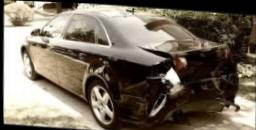Bumper: (131, 75, 237, 125)
Dickey: (136, 36, 226, 77)
